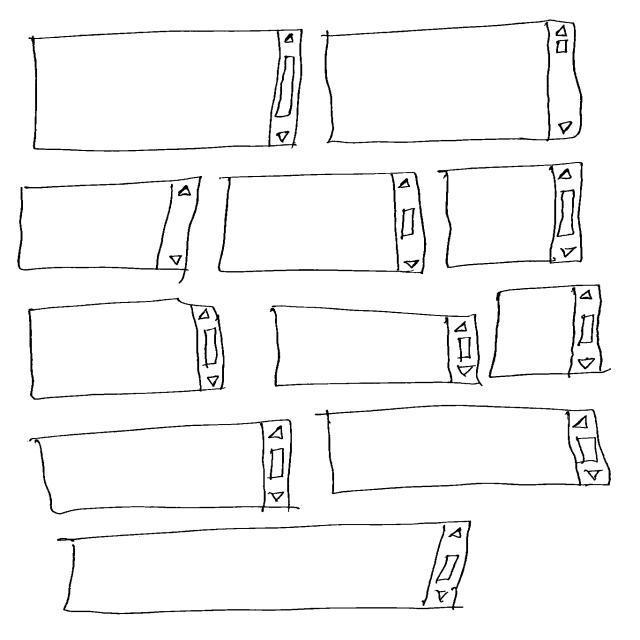textarea: (58, 521, 472, 615), (29, 30, 303, 153), (322, 20, 583, 144), (30, 420, 303, 517), (316, 406, 612, 495), (219, 172, 427, 275), (29, 299, 229, 401), (19, 177, 203, 285), (271, 306, 484, 387), (439, 163, 584, 269), (490, 285, 612, 379)
